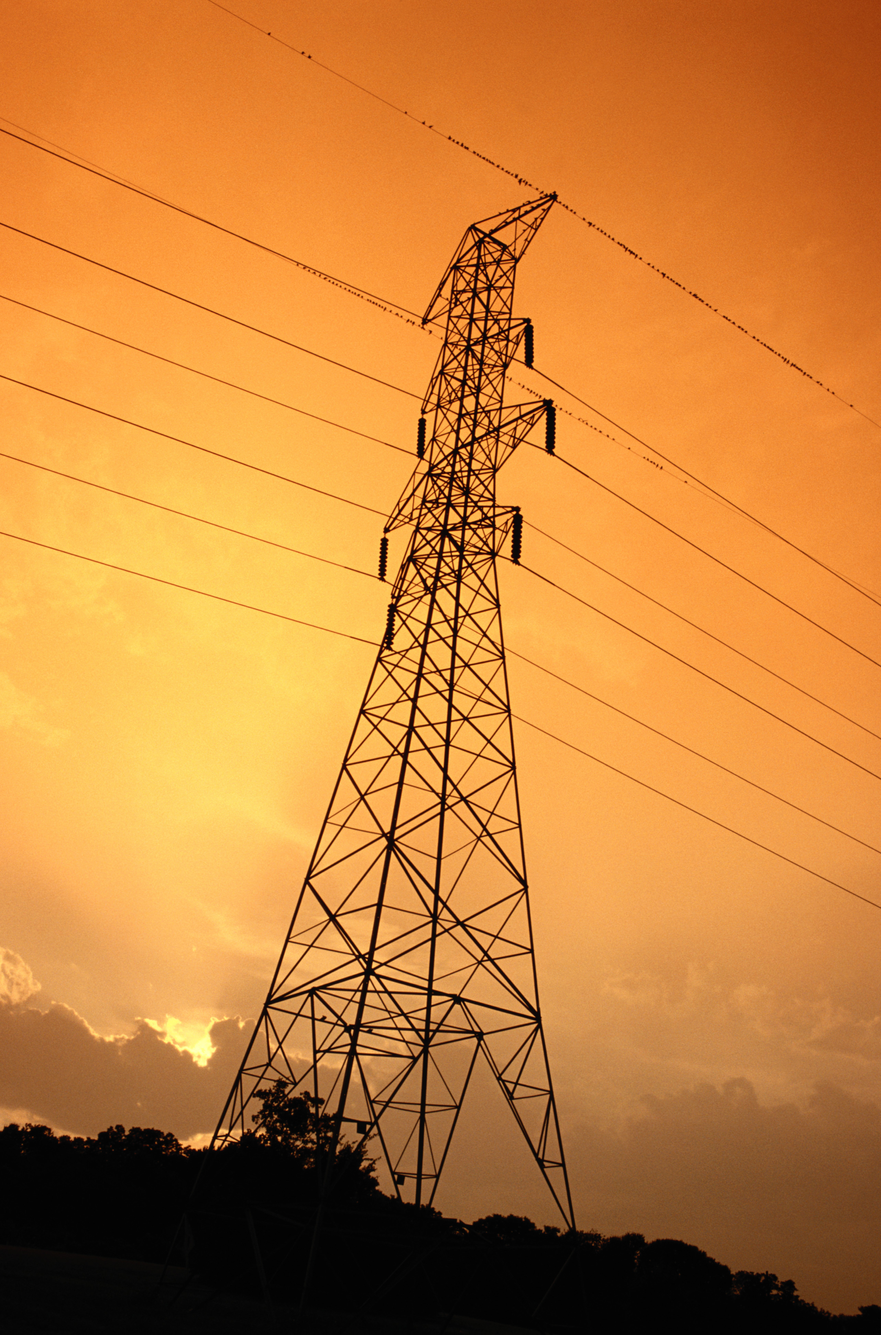insulator: (539, 400, 560, 461), (518, 316, 537, 370), (506, 507, 522, 565), (413, 414, 429, 459), (386, 598, 397, 650), (379, 533, 391, 580)
